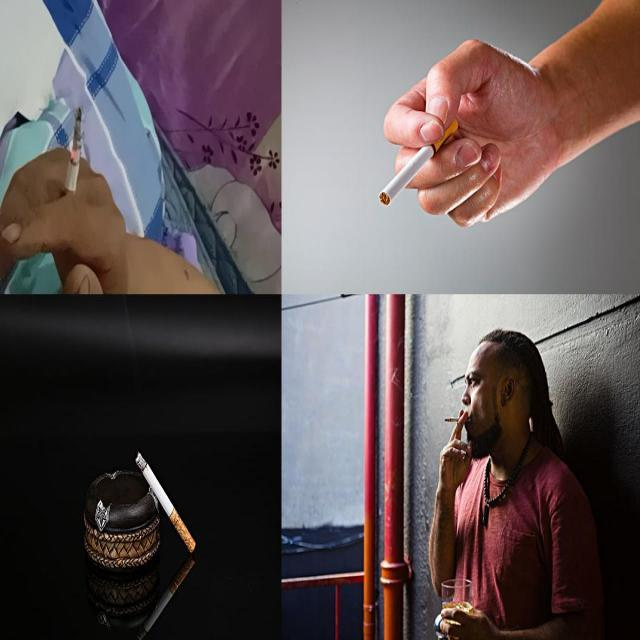cigarette: (378, 118, 459, 208), (133, 446, 197, 553), (134, 556, 198, 640), (62, 107, 84, 216), (443, 412, 471, 428)
